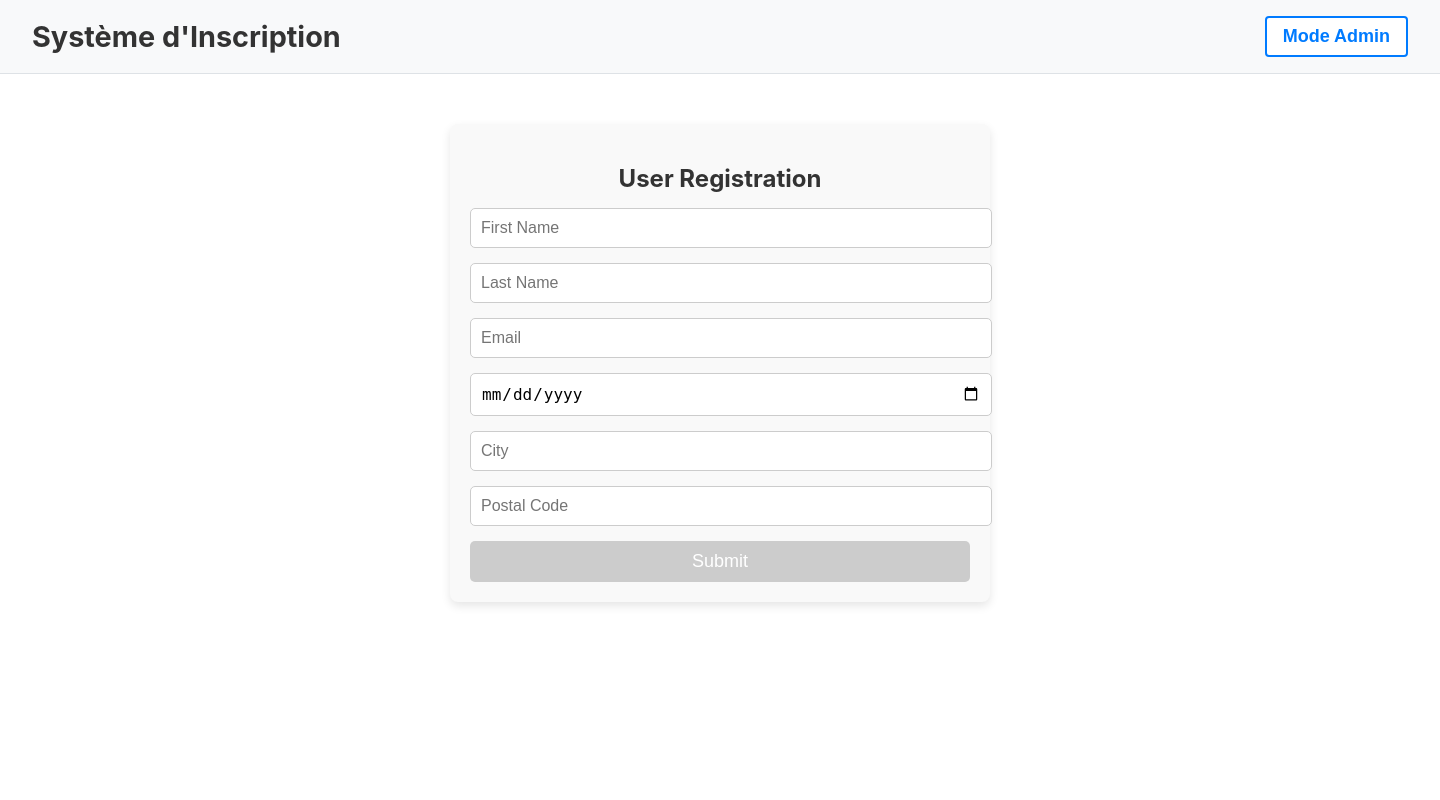
it: Employee Registration System - E2E › Admin Dashboard - User Management › should allow admin logout and return to user mode
Click the button "Mode Admin": (1337, 37) [1265, 16, 1408, 57]
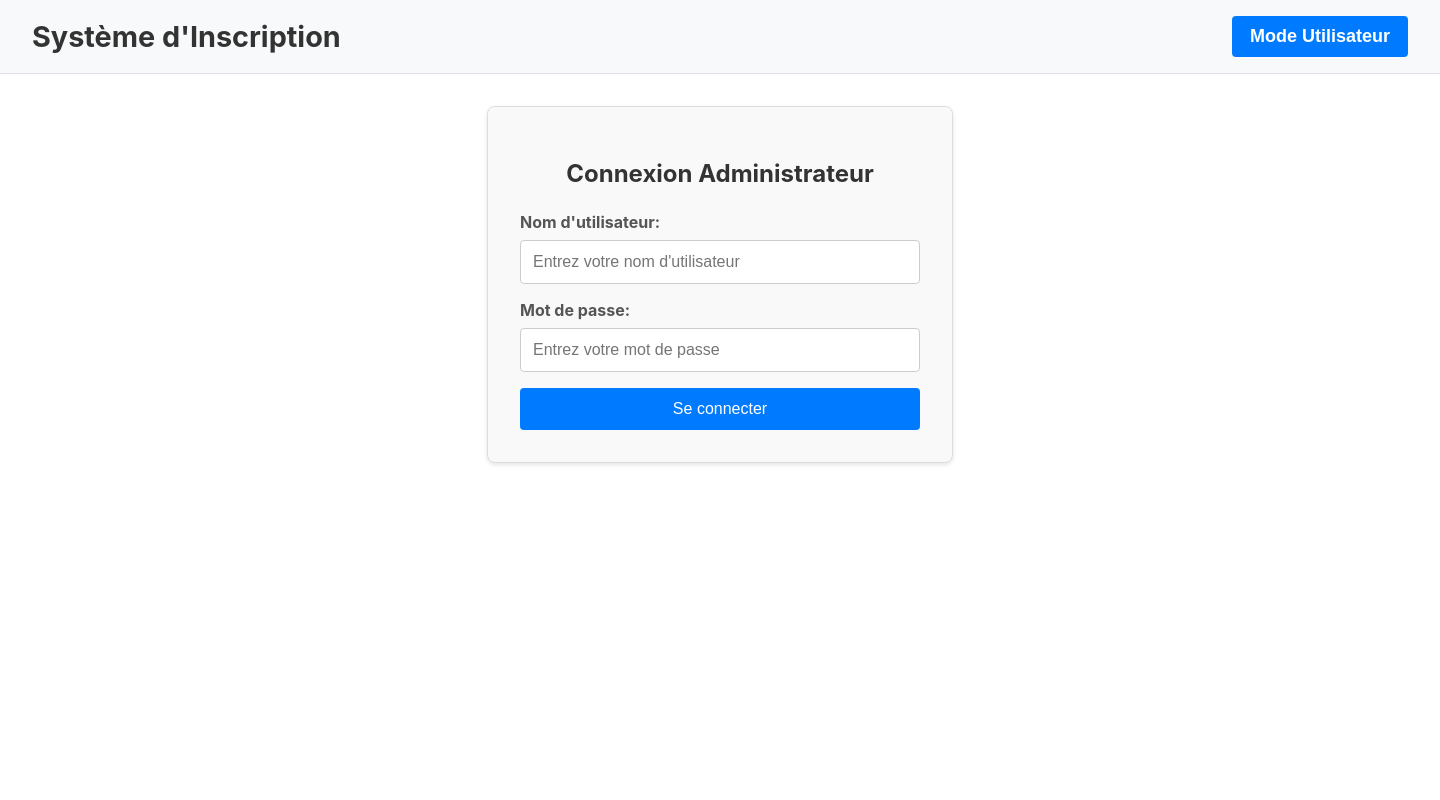
In the field with id "username": (720, 262) [520, 240, 920, 284], type "admin"
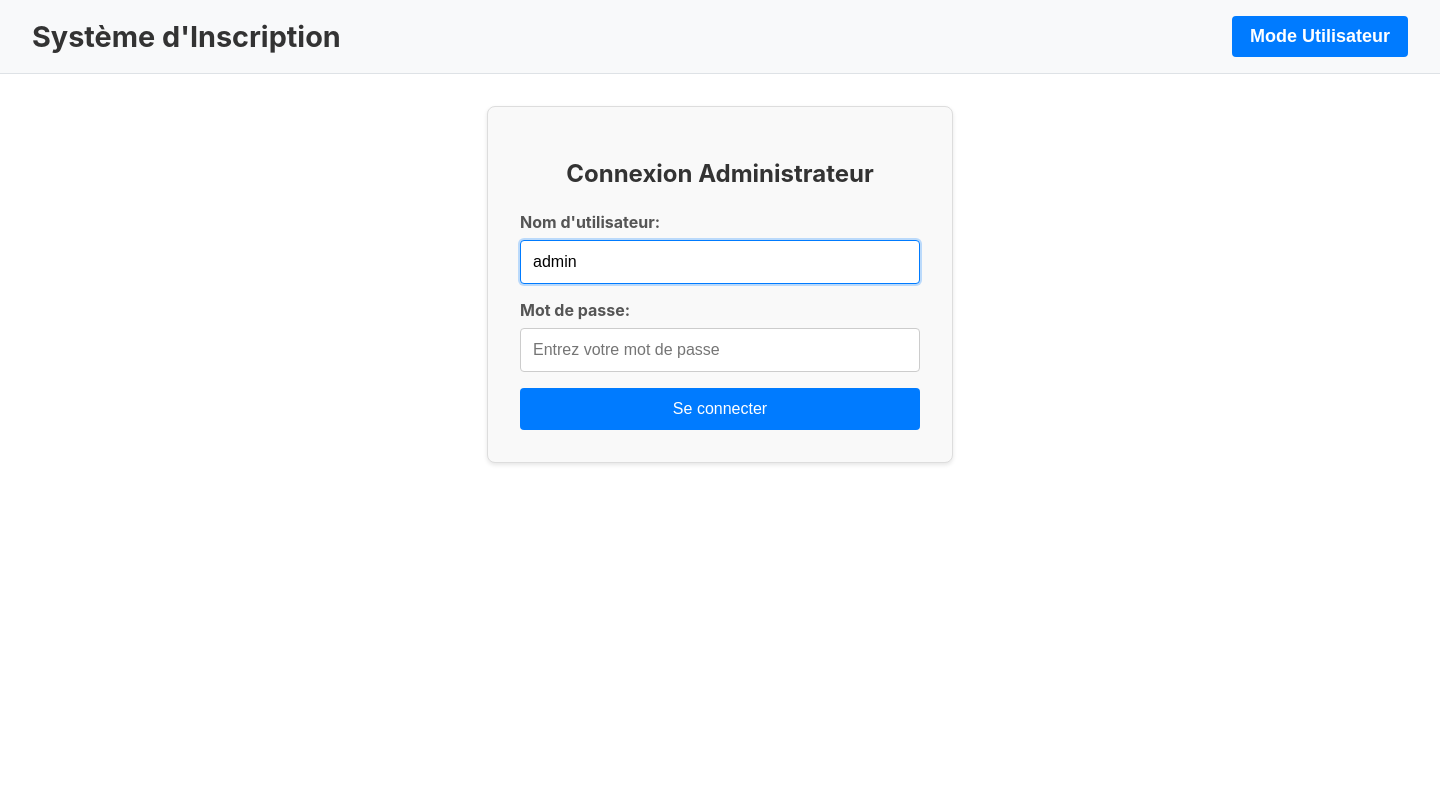
In the password field labelled "Mot de passe:": (720, 350) [520, 328, 920, 372], type "admin123"
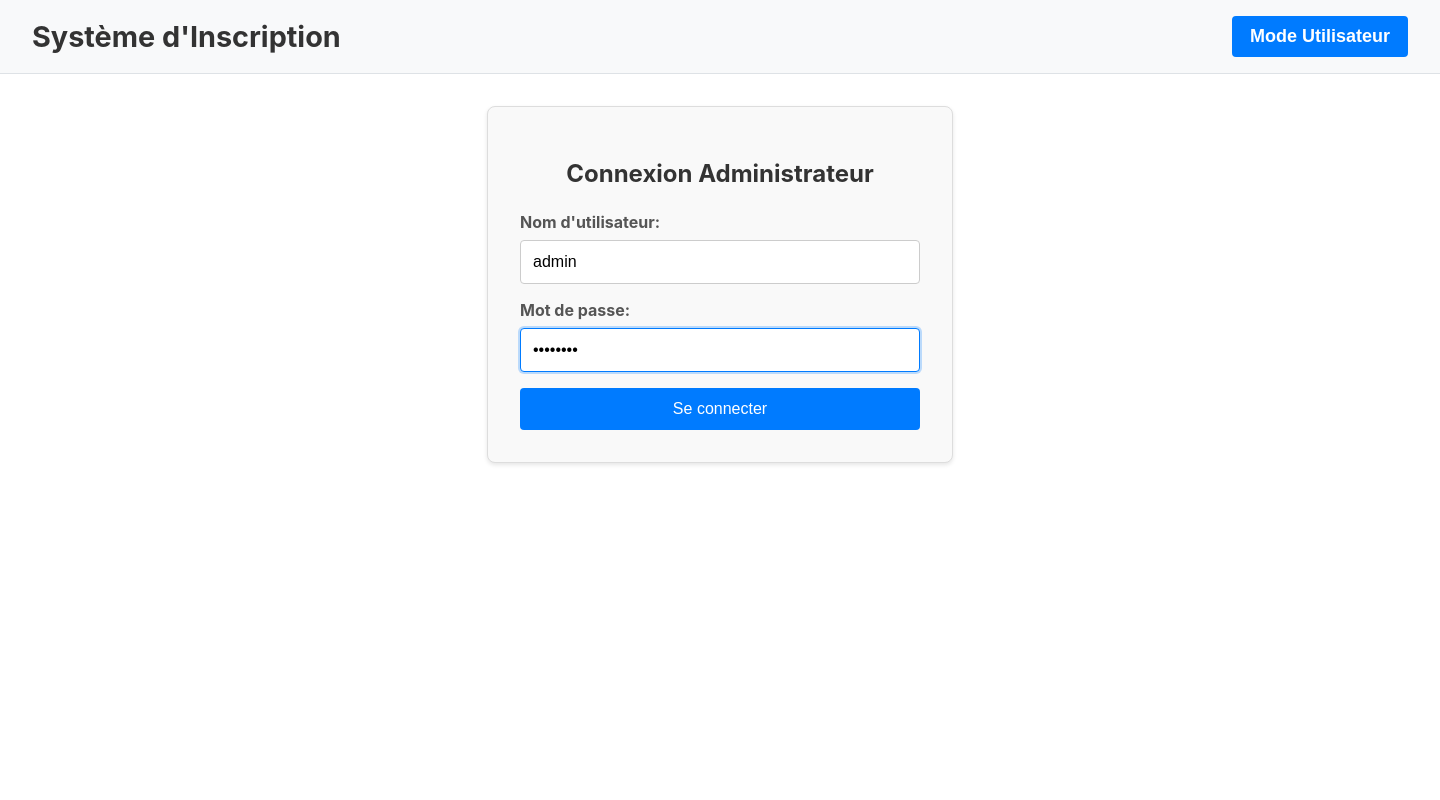
Click the submit button: (720, 409) [520, 388, 920, 430]
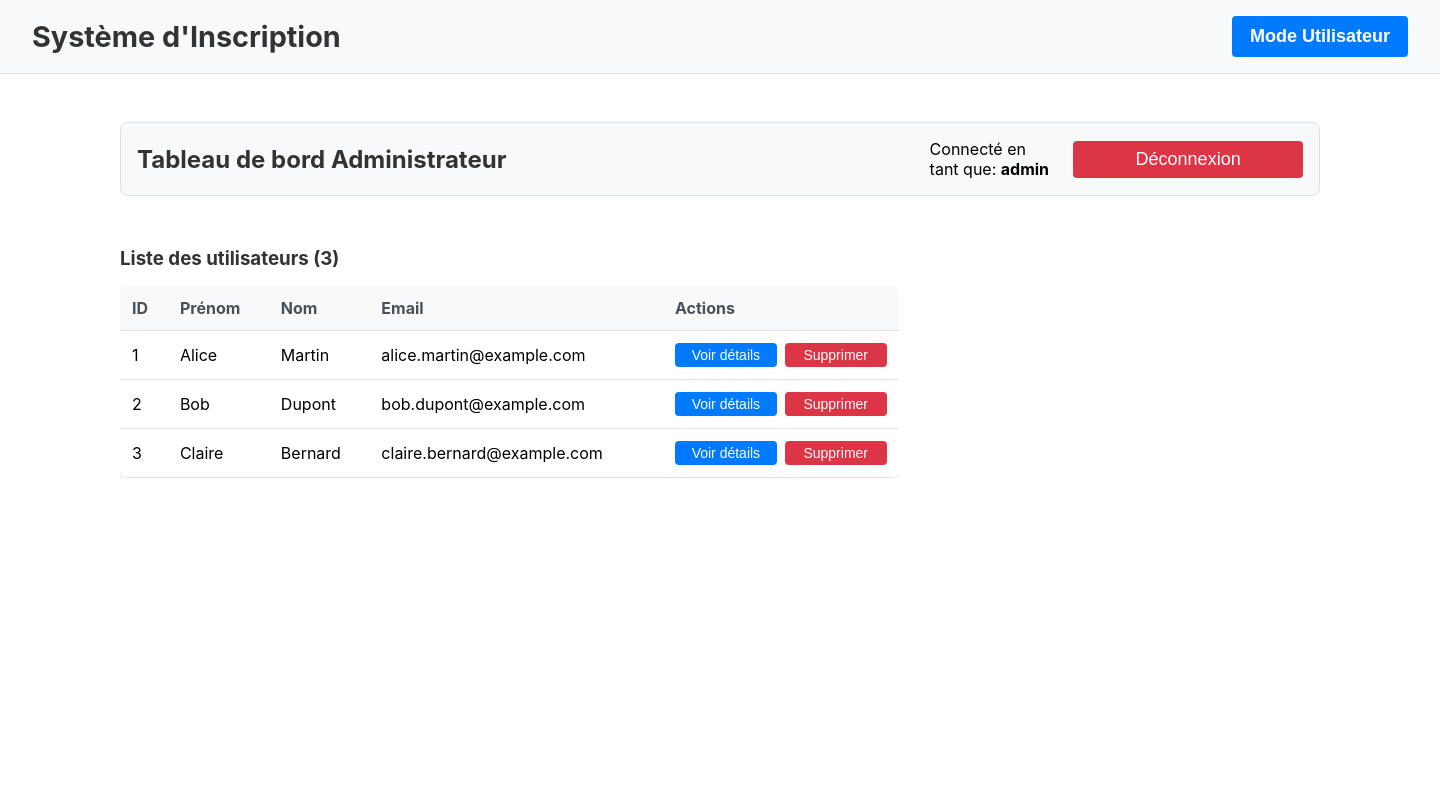
Click the button "Déconnexion": (1188, 160) [1073, 141, 1303, 178]
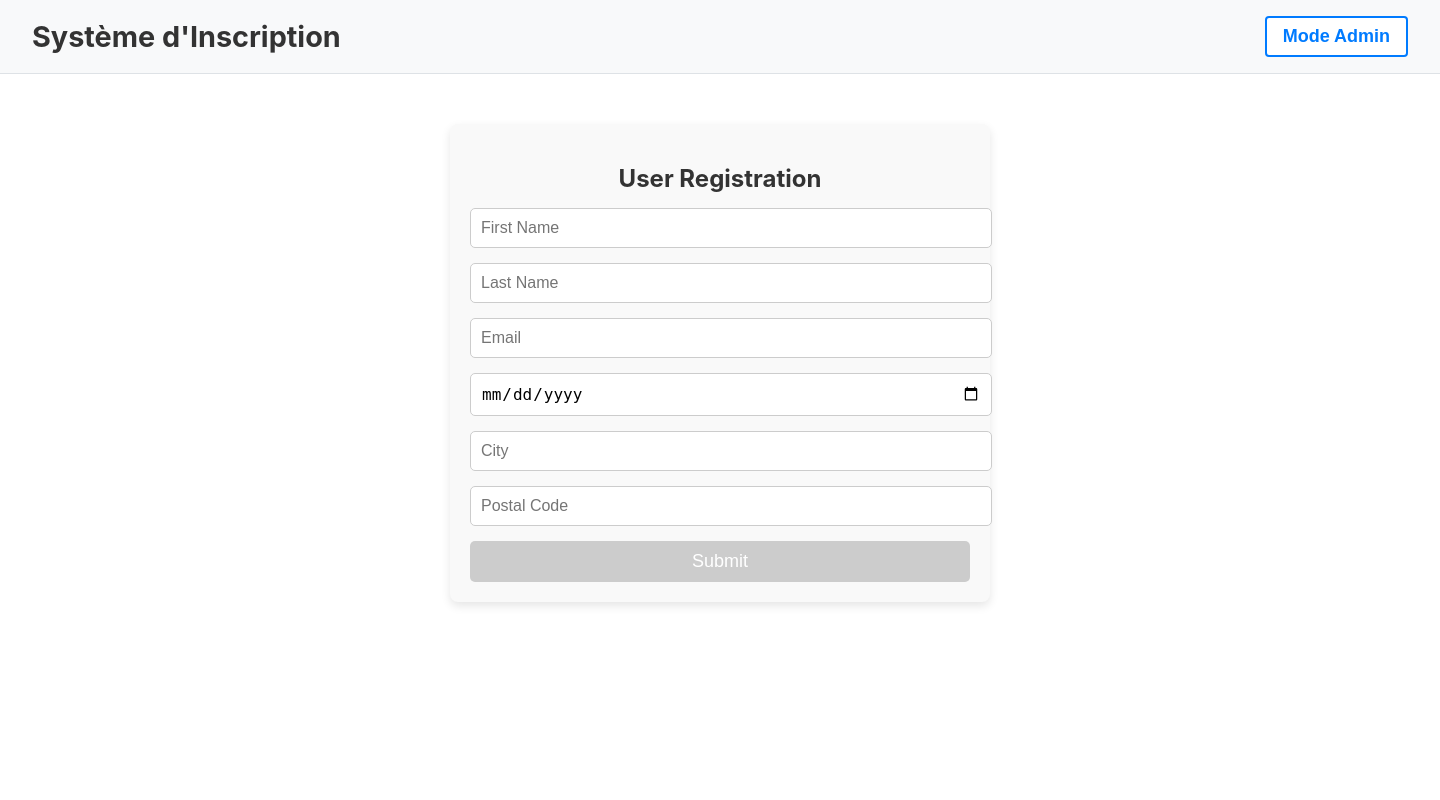
Result: the heading "User Registration" is shown at [619, 164, 821, 193]
Result: the form is shown at [470, 208, 970, 582]
